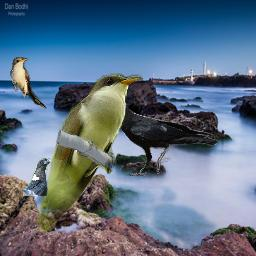Crow: (95, 102, 217, 176), (23, 158, 51, 196)
Cuckoo: (34, 73, 143, 233), (10, 57, 47, 110)
